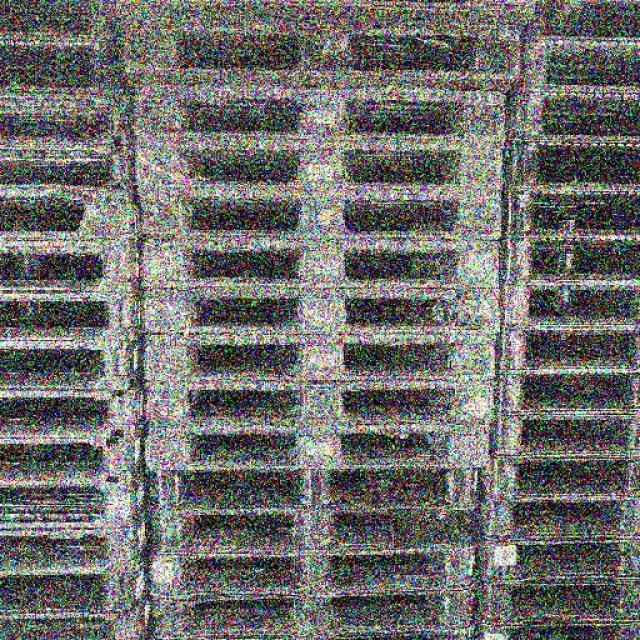igps: (122, 75, 512, 145), (108, 32, 530, 96), (124, 132, 514, 196), (128, 233, 509, 294), (128, 188, 508, 244), (130, 286, 508, 340), (140, 546, 484, 599), (135, 335, 510, 380), (136, 384, 501, 430), (136, 426, 504, 471), (106, 0, 543, 37), (138, 464, 489, 510), (140, 594, 483, 640), (137, 506, 487, 551), (0, 550, 155, 618), (0, 378, 151, 445), (0, 475, 157, 537), (0, 332, 152, 396), (0, 232, 145, 299), (0, 285, 151, 347), (0, 584, 161, 640), (0, 187, 148, 246), (0, 429, 155, 485), (0, 522, 154, 576), (474, 448, 640, 498), (471, 577, 640, 626), (0, 98, 140, 156), (0, 44, 134, 104), (502, 136, 640, 194), (500, 183, 640, 240), (503, 85, 640, 142), (494, 368, 640, 420), (476, 498, 640, 544), (498, 235, 640, 288), (513, 34, 640, 93), (496, 275, 640, 325), (471, 540, 640, 581), (0, 148, 144, 196), (495, 325, 640, 371), (496, 418, 640, 460), (525, 0, 640, 42), (0, 0, 114, 42), (472, 623, 640, 640)
